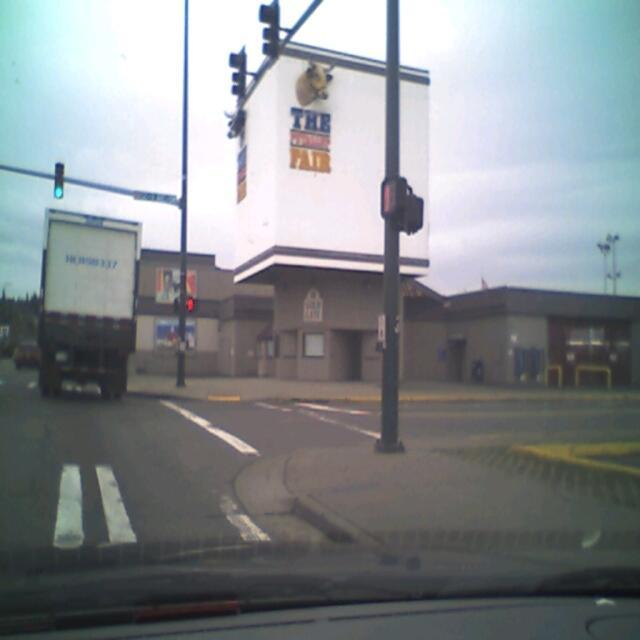traffic light: (53, 162, 65, 199)
